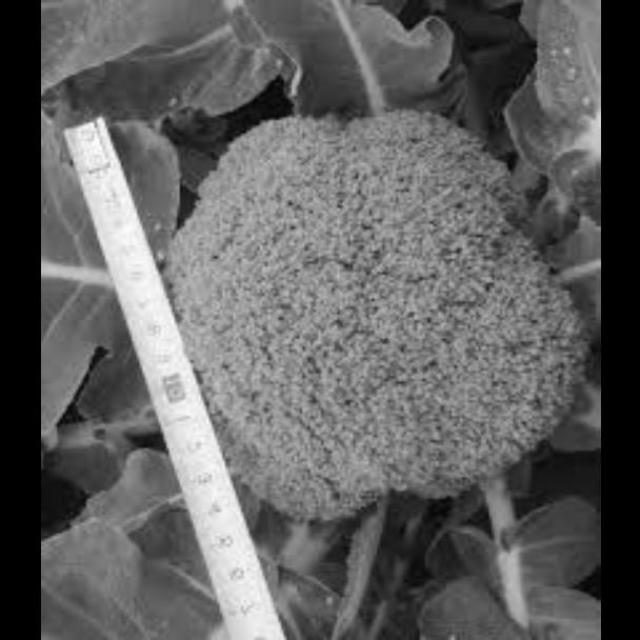bong cai xanh: (150, 61, 574, 539)
